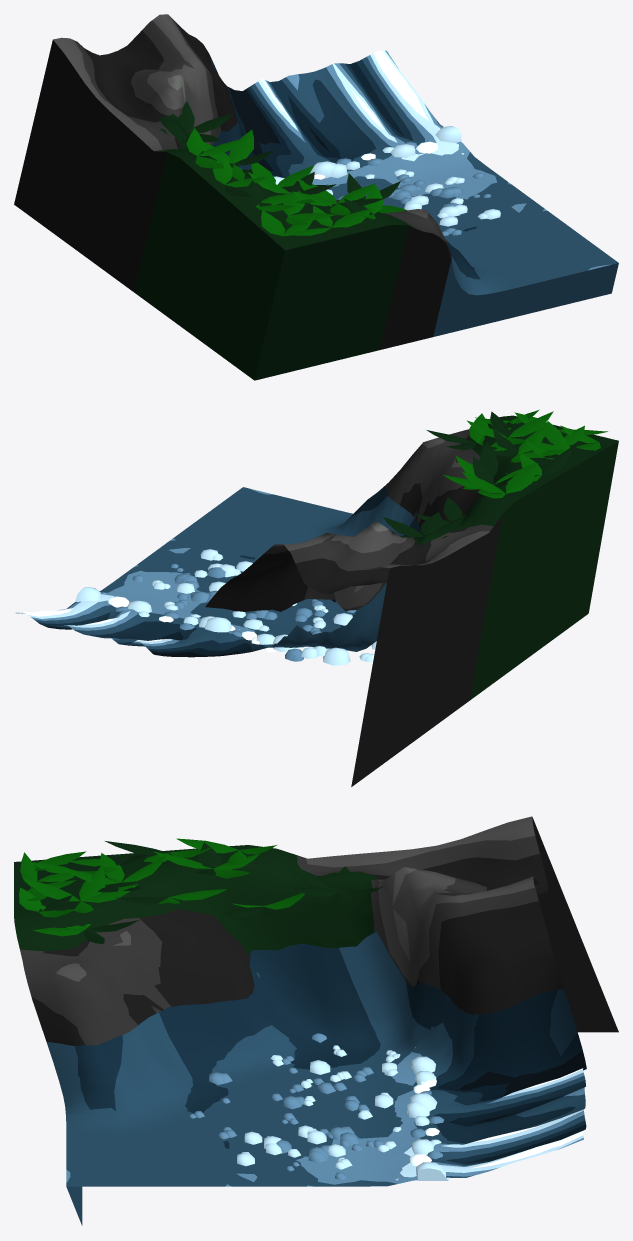
Rendered from torm_fall_bl.glb.
3 renders of one model, top to bottom at view 1: azimuth 30°, elevation 25°; view 2: azimuth 150°, elevation 25°; view 3: azimuth 270°, elevation 25°, orthographic. The views are drawn at different scales.
Parts seen in each view (by area): view 1: torm_fall_bl; view 2: torm_fall_bl; view 3: torm_fall_bl.
Part boxes in pixels (x1,y1,x2,y2): torm_fall_bl: (14, 14, 618, 380); torm_fall_bl: (16, 409, 618, 786); torm_fall_bl: (14, 816, 618, 1225).
Size of the model in its own units: 24 by 12.43 by 31.57.
